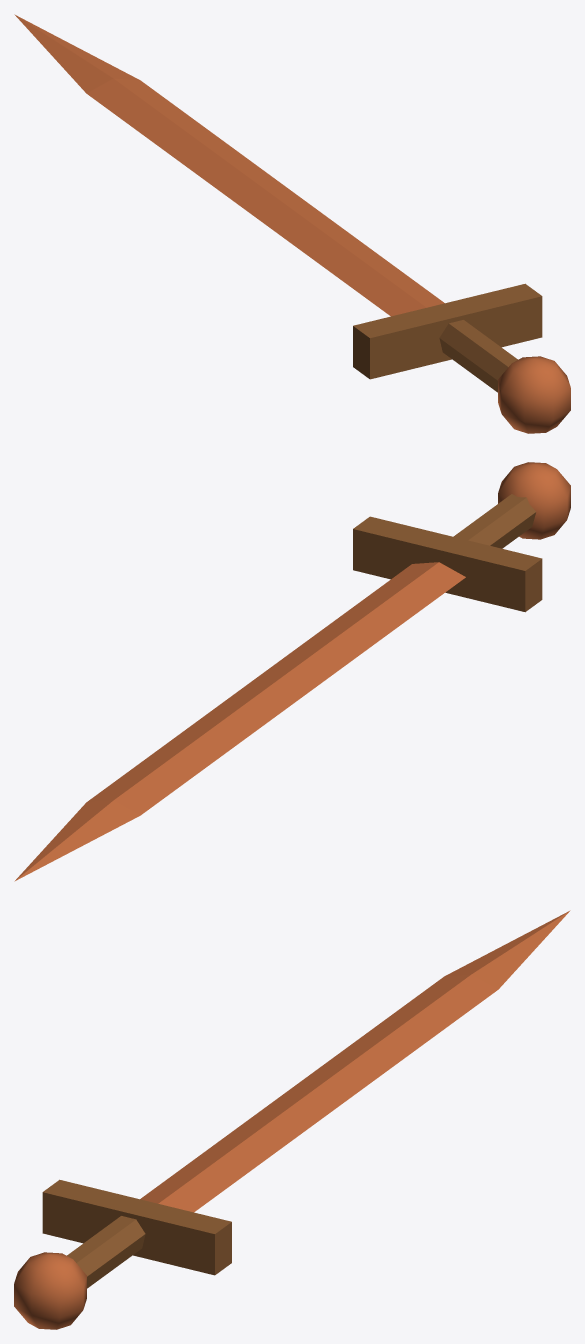
File: Weapon_Sword_Copper.fbx
3 renders of one model, top to bottom at view 1: azimuth 30°, elevation 25°; view 2: azimuth 150°, elevation 25°; view 3: azimuth 330°, elevation 25°, orthographic.
Visible parts, largest first — view 1: Weapon_Sword_Copper; view 2: Weapon_Sword_Copper; view 3: Weapon_Sword_Copper.
Boxes of the visible parts, x1=… form: Weapon_Sword_Copper: x1=14, y1=14, x2=570, y2=433; Weapon_Sword_Copper: x1=14, y1=462, x2=570, y2=881; Weapon_Sword_Copper: x1=14, y1=910, x2=570, y2=1329.
Bounding box in the file's own units: 7 × 2.8 × 37.93.
